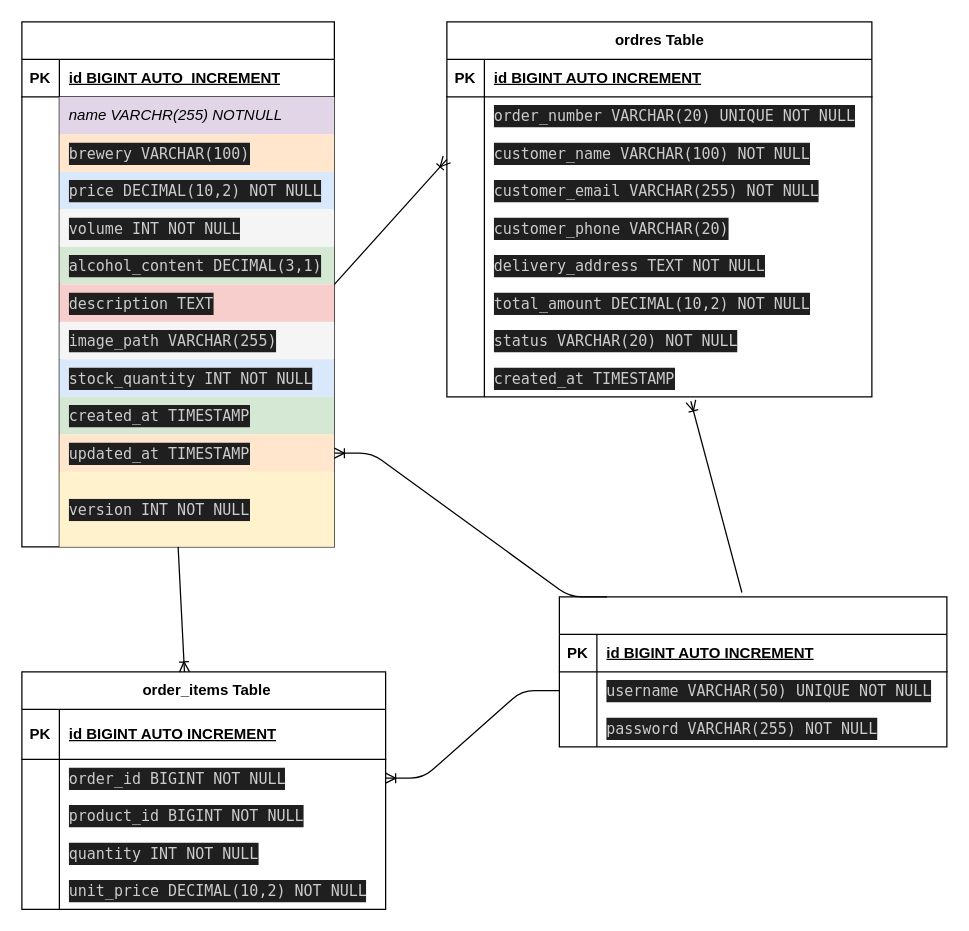
This 969x931 diagram has some shape labels left out. The shapes that lost their labels are listed below. From the top down, each one's box as (x1, y1, x2, y2) in pixels, then its label:
(21, 21, 334, 547): products Table
(558, 596, 947, 747): admins Table
